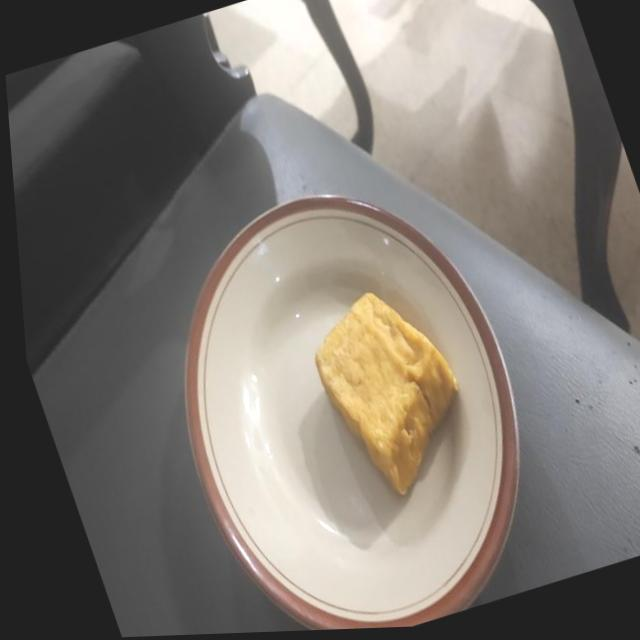tahu_goreng: (315, 292, 457, 493)
